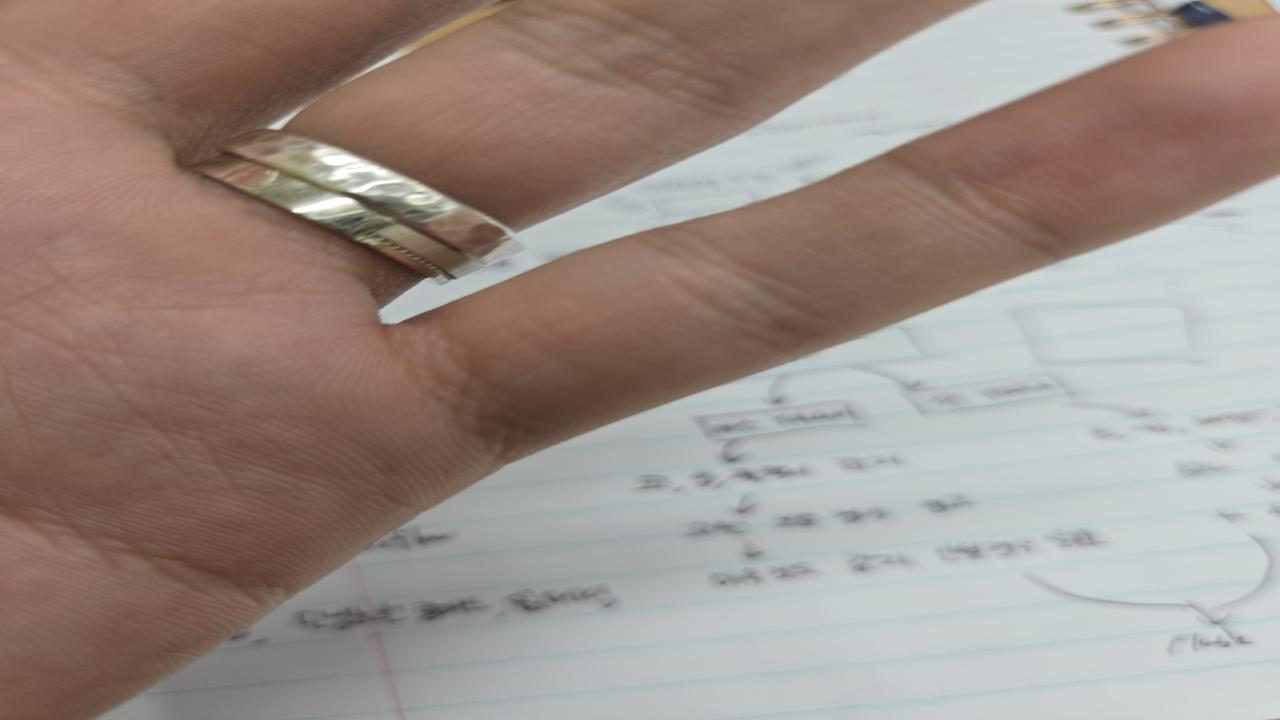ring: (189, 129, 525, 284)
